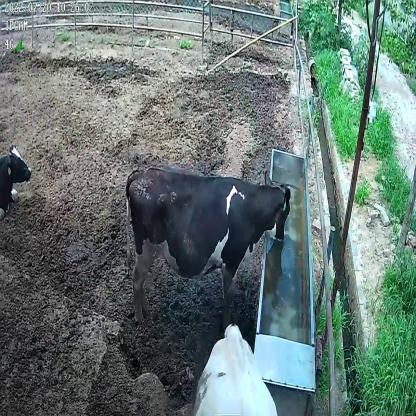cow: (119, 168, 293, 338), (0, 139, 34, 223)
